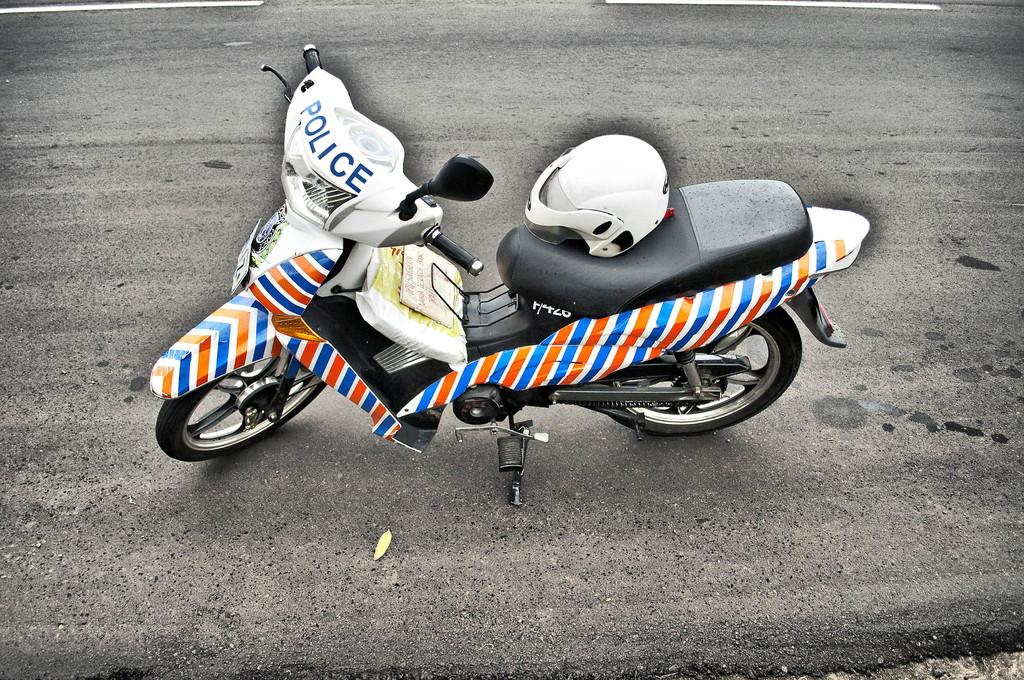helmet: (524, 134, 670, 258)
